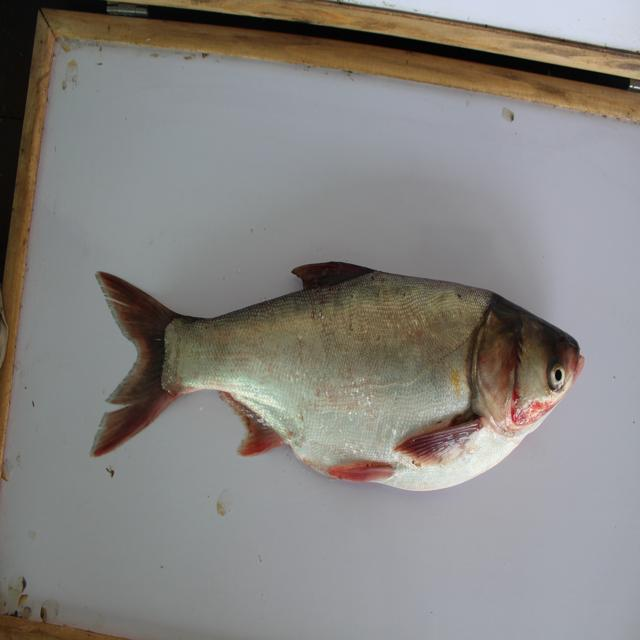SilverCarp: (58, 234, 599, 514)
